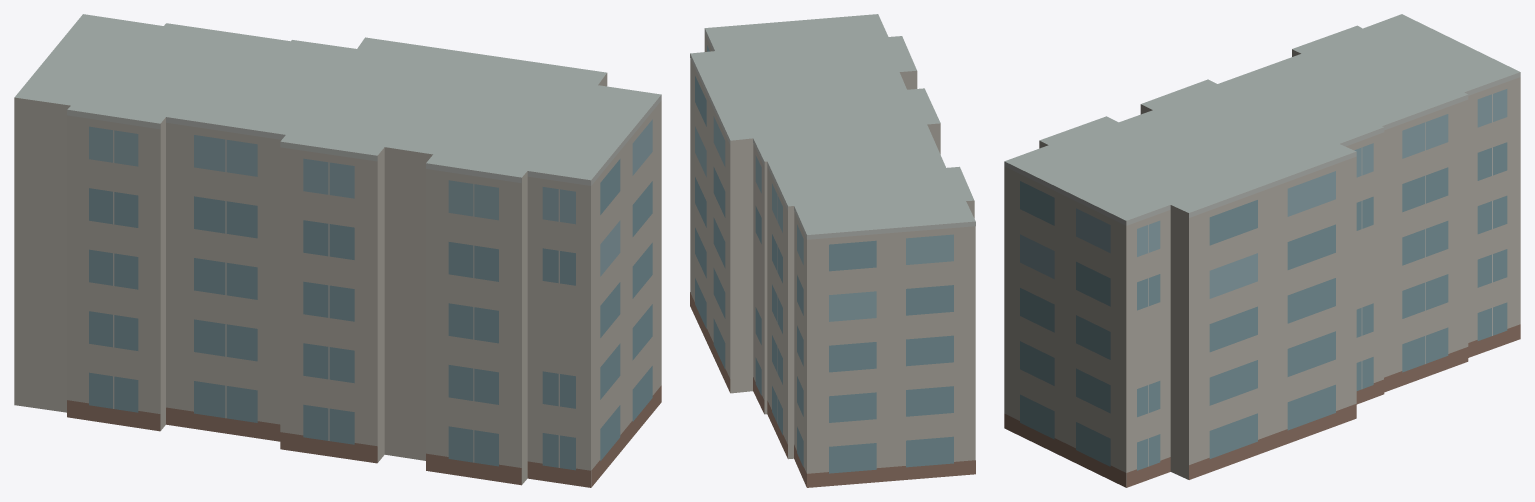
Rendered from survey-upis-32917273.glb.
3 views of the same model, side by side, from view 1: azimuth 30°, elevation 25°; view 2: azimuth 150°, elevation 25°; view 3: azimuth 270°, elevation 25° (orthographic). The views are drawn at different scales.
Visible parts, largest first — view 1: survey-upis-32917273.tmp; view 2: survey-upis-32917273.tmp; view 3: survey-upis-32917273.tmp.
Part boxes in pixels (x1,y1,x2,y2): survey-upis-32917273.tmp: (14, 14, 661, 487); survey-upis-32917273.tmp: (690, 14, 975, 487); survey-upis-32917273.tmp: (1004, 14, 1520, 487).
Bounding box in the file's own units: 21.78 × 13.1 × 22.96.
